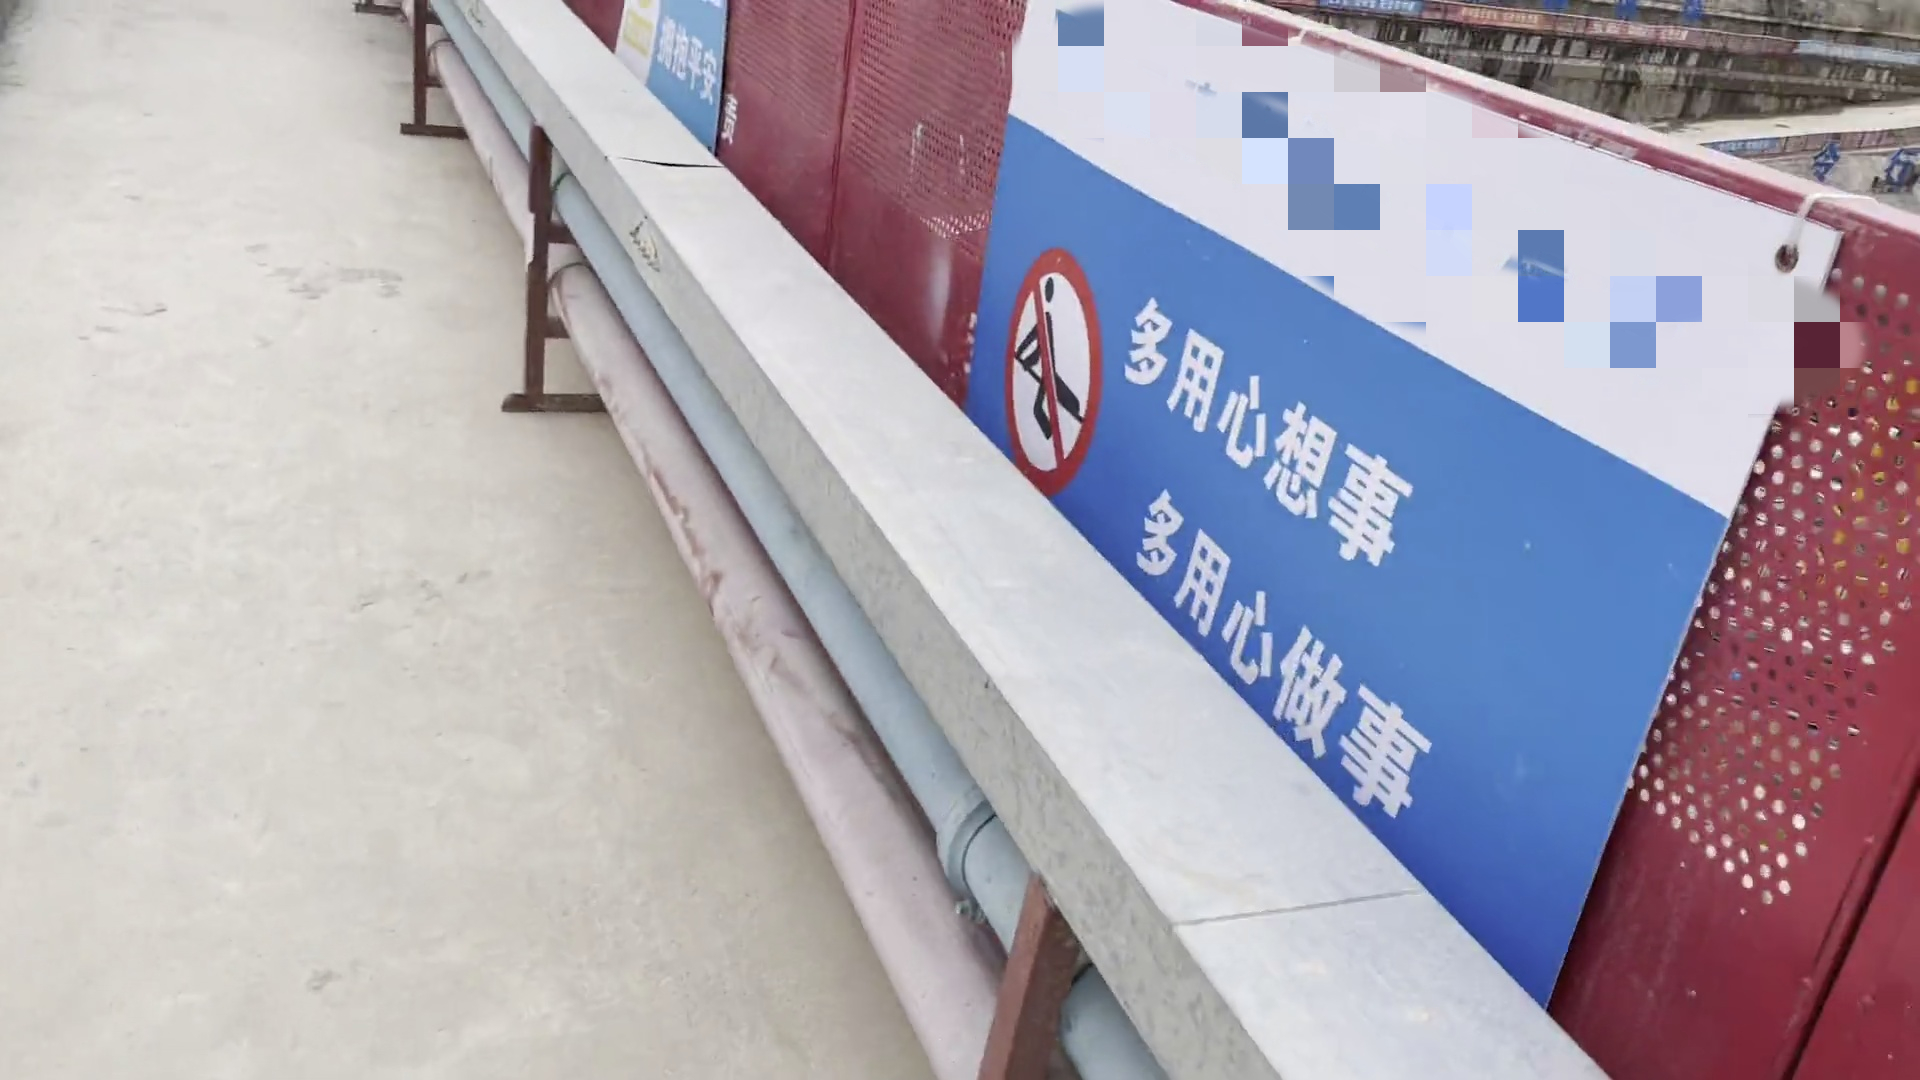fence: (1267, 33, 1920, 1080), (564, 1, 1291, 723)
slogan: (964, 1, 1875, 1023), (595, 4, 753, 174), (1444, 7, 1556, 42), (1321, 3, 1425, 28)
